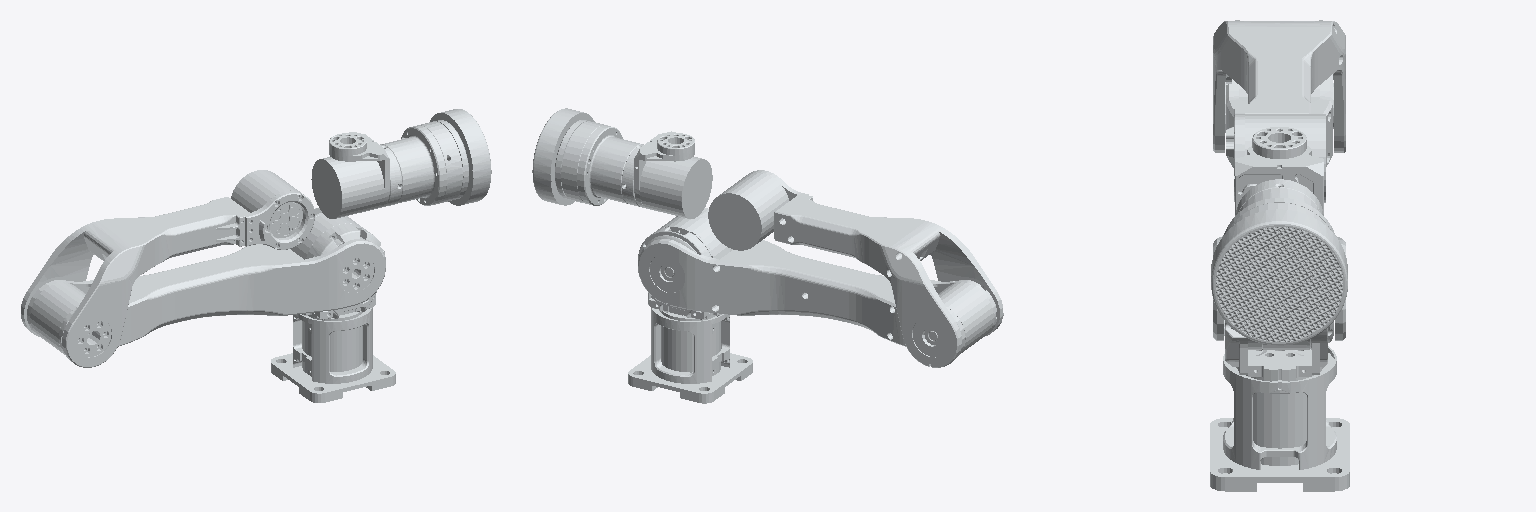
URDF robot description (y1):
<?xml version="1.0" encoding="utf-8"?>
<!-- This URDF was automatically created by SolidWorks to URDF Exporter! Originally created by Stephen Brawner (brawner@gmail.com) 
     Commit Version: 1.6.0-4-g7f85cfe  Build Version: 1.6.7995.38578
     For more information, please see http://wiki.ros.org/sw_urdf_exporter -->
<robot
  name="y1">

  <mujoco>
    <compiler 
      meshdir="../meshes/" 
      balanceinertia="true" 
      discardvisual="false"/>
  </mujoco>

  <link name="world"/>
  <joint name="fixed_base_joint" type="fixed">
    <origin
      xyz="0 0 0"
      rpy="0 0 0" />
    <parent link="world"/>
    <child link="base_link"/>
    <axis
      xyz="0 0 1" />
  </joint>
  <link
    name="base_link">
    <inertial>
      <origin
        xyz="-9.09789029626031E-05 -1.00838762111356E-06 0.0341142783974825"
        rpy="0 0 0" />
      <mass
        value="0.630484112037129" />
      <inertia
        ixx="0.000410475542409659"
        ixy="6.62504499788967E-08"
        ixz="2.20725015722797E-07"
        iyy="0.000409696540187415"
        iyz="-9.52578419911164E-09"
        izz="0.000488804326955829" />
    </inertial>
    <visual>
      <origin
        xyz="0 0 0"
        rpy="0 0 0" />
      <geometry>
        <mesh
          filename="package://y1_description/meshes/base_link.STL" />
      </geometry>
      <material
        name="">
        <color
          rgba="0.898039215686275 0.917647058823529 0.929411764705882 1" />
      </material>
    </visual>
    <collision>
      <origin
        xyz="0 0 0"
        rpy="0 0 0" />
      <geometry>
        <mesh
          filename="package://y1_description/meshes/base_link.STL" />
      </geometry>
    </collision>
  </link>
  <link
    name="link1">
    <inertial>
      <origin
        xyz="0.000681166801672071 -0.00046232914455336 0.045774892481422"
        rpy="0 0 0" />
      <mass
        value="0.465086237348566" />
      <inertia
        ixx="0.000229226849289421"
        ixy="6.51443398285894E-09"
        ixz="4.13823216869872E-08"
        iyy="0.000349392243512686"
        iyz="4.09909327547663E-06"
        izz="0.000228246849171451" />
    </inertial>
    <visual>
      <origin
        xyz="0 0 0"
        rpy="0 0 0" />
      <geometry>
        <mesh
          filename="package://y1_description/meshes/link1.STL" />
      </geometry>
      <material
        name="">
        <color
          rgba="0.898039215686275 0.917647058823529 0.929411764705882 1" />
      </material>
    </visual>
    <collision>
      <origin
        xyz="0 0 0"
        rpy="0 0 0" />
      <geometry>
        <mesh
          filename="package://y1_description/meshes/link1.STL" />
      </geometry>
    </collision>
  </link>
  <joint
    name="joint1"
    type="revolute">
    <origin
      xyz="0 0 0.06675"
      rpy="0 0 0" />
    <parent
      link="base_link" />
    <child
      link="link1" />
    <axis
      xyz="0 0 1" />
    <limit
      lower="-2.79"
      upper="2.79"
      effort="30"
      velocity="5" />
  </joint>
  <link
    name="link2">
    <inertial>
      <origin
        xyz="-0.18883363836199 -0.00103696749691735 -0.000652233498703338"
        rpy="0 0 0" />
      <mass
        value="1.00848298846255" />
      <inertia
        ixx="0.000410794336332579"
        ixy="-8.40217278690792E-05"
        ixz="8.54409137580295E-06"
        iyy="0.0060417092412649"
        iyz="-2.44381601939707E-07"
        izz="0.00611040782664147" />
    </inertial>
    <visual>
      <origin
        xyz="0 0 0"
        rpy="0 0 0" />
      <geometry>
        <mesh
          filename="package://y1_description/meshes/link2.STL" />
      </geometry>
      <material
        name="">
        <color
          rgba="0.898039215686275 0.917647058823529 0.929411764705882 1" />
      </material>
    </visual>
    <collision>
      <origin
        xyz="0 0 0"
        rpy="0 0 0" />
      <geometry>
        <mesh
          filename="package://y1_description/meshes/link2.STL" />
      </geometry>
    </collision>
  </link>
  <joint
    name="joint2"
    type="revolute">
    <origin
      xyz="0.00075 0 0.055"
      rpy="1.5707963267949 0 0" />
    <parent
      link="link1" />
    <child
      link="link2" />
    <axis
      xyz="0 0 1" />
    <limit
      lower="-3.14"
      upper="0"
      effort="100"
      velocity="5" />
  </joint>
  <link
    name="link3">
    <inertial>
      <origin
        xyz="0.133032369395304 0.0530016058529144 0.000290607464783963"
        rpy="0 0 0" />
      <mass
        value="0.839664047451371" />
      <inertia
        ixx="0.000602602152841581"
        ixy="0.000475019651698254"
        ixz="4.78547824051497E-06"
        iyy="0.00179992027196969"
        iyz="2.90178956983618E-06"
        izz="0.00208247690008721" />
    </inertial>
    <visual>
      <origin
        xyz="0 0 0"
        rpy="0 0 0" />
      <geometry>
        <mesh
          filename="package://y1_description/meshes/link3.STL" />
      </geometry>
      <material
        name="">
        <color
          rgba="0.898039215686275 0.917647058823529 0.929411764705882 1" />
      </material>
    </visual>
    <collision>
      <origin
        xyz="0 0 0"
        rpy="0 0 0" />
      <geometry>
        <mesh
          filename="package://y1_description/meshes/link3.STL" />
      </geometry>
    </collision>
  </link>
  <joint
    name="joint3"
    type="revolute">
    <origin
      xyz="-0.28 0 0"
      rpy="0 0 0" />
    <parent
      link="link2" />
    <child
      link="link3" />
    <axis
      xyz="0 0 1" />
    <limit
      lower="0"
      upper="3.14"
      effort="30"
      velocity="5" />
  </joint>
  <link
    name="link4">
    <inertial>
      <origin
        xyz="0.0666890671297201 0.061249505361484 0.00493164049114361"
        rpy="0 0 0" />
      <mass
        value="0.455192806560725" />
      <inertia
        ixx="0.000176582732613137"
        ixy="2.15495918248381E-05"
        ixz="-5.61631637175522E-06"
        iyy="0.000211179169445067"
        iyz="-5.37410070664354E-06"
        izz="0.000207766320179744" />
    </inertial>
    <visual>
      <origin
        xyz="0 0 0"
        rpy="0 0 0" />
      <geometry>
        <mesh
          filename="package://y1_description/meshes/link4.STL" />
      </geometry>
      <material
        name="">
        <color
          rgba="0.898039215686275 0.917647058823529 0.929411764705882 1" />
      </material>
    </visual>
    <collision>
      <origin
        xyz="0 0 0"
        rpy="0 0 0" />
      <geometry>
        <mesh
          filename="package://y1_description/meshes/link4.STL" />
      </geometry>
    </collision>
  </link>
  <joint
    name="joint4"
    type="revolute">
    <origin
      xyz="0.215000000000004 0.0630000000000073 0"
      rpy="0 0 0" />
    <parent
      link="link3" />
    <child
      link="link4" />
    <axis
      xyz="0 0 1" />
    <limit
      lower="-2.145"
      upper="1.413"
      effort="10"
      velocity="20" />
  </joint>
  <link
    name="link5">
    <inertial>
      <origin
        xyz="0.00248530581728849 1.71803824630881E-05 0.0400785531860572"
        rpy="0 0 0" />
      <mass
        value="0.373508569742983" />
      <inertia
        ixx="0.00016414068497646"
        ixy="1.01562762133299E-07"
        ixz="8.98033278270026E-06"
        iyy="0.000150227046495623"
        iyz="7.2756432239469E-07"
        izz="0.000141442797294447" />
    </inertial>
    <visual>
      <origin
        xyz="0 0 0"
        rpy="0 0 0" />
      <geometry>
        <mesh
          filename="package://y1_description/meshes/link5.STL" />
      </geometry>
      <material
        name="">
        <color
          rgba="0.898039215686275 0.917647058823529 0.929411764705882 1" />
      </material>
    </visual>
    <collision>
      <origin
        xyz="0 0 0"
        rpy="0 0 0" />
      <geometry>
        <mesh
          filename="package://y1_description/meshes/link5.STL" />
      </geometry>
    </collision>
  </link>
  <joint
    name="joint5"
    type="revolute">
    <origin
      xyz="0.0799999999999998 0.0519999999999981 0.000249997832942123"
      rpy="1.5707963267949 0 0" />
    <parent
      link="link4" />
    <child
      link="link5" />
    <axis
      xyz="0 0 1" />
    <limit
      lower="-1.482"
      upper="1.482"
      effort="10"
      velocity="20" />
  </joint>
  <link
    name="link6">
    <inertial>
      <origin
        xyz="0.0108106656274518 0.000127504395052592 0.00016010488602905"
        rpy="0 0 0" />
      <mass
        value="0.0724468602058996" />
      <inertia
        ixx="3.15031267100887E-05"
        ixy="-1.31150970829828E-08"
        ixz="-1.64301978495266E-08"
        iyy="1.66634761480036E-05"
        iyz="1.49361456762624E-07"
        izz="1.66897035808186E-05" />
    </inertial>
    <visual>
      <origin
        xyz="0 0 0"
        rpy="0 0 0" />
      <geometry>
        <mesh
          filename="package://y1_description/meshes/link6.STL" />
      </geometry>
      <material
        name="">
        <color
          rgba="0.898039215686275 0.917647058823529 0.929411764705882 1" />
      </material>
    </visual>
    <collision>
      <origin
        xyz="0 0 0"
        rpy="0 0 0" />
      <geometry>
        <mesh
          filename="package://y1_description/meshes/link6.STL" />
      </geometry>
    </collision>
  </link>
  <joint
    name="joint6"
    type="revolute">
    <origin
      xyz="0.0235 0 0.0440000000000001"
      rpy="-3.14159265330655 0 0" />
    <parent
      link="link5" />
    <child
      link="link6" />
    <axis
      xyz="1 0 0" />
    <limit
      lower="-2.529"
      upper="2.529"
      effort="10"
      velocity="20" />
  </joint>
</robot>

--- Facts derived from the render (not from the file) ---
The picture shows the robot from 3 angles, left to right: view 1: azimuth 30°, elevation 25°; view 2: azimuth 150°, elevation 25°; view 3: azimuth 270°, elevation 25°; orthographic projection.
Robot: y1 — 8 links, 7 joints (6 revolute, 1 fixed); root link world; default pose: every joint at zero.
Visible links, largest first — view 1: link3, link2, link6, base_link, link5, link1; view 2: link3, link2, link6, base_link, link5, link1; view 3: link6, link3, base_link, link5, link1, link2.
Link boxes in pixels (<box>): link3: <box>21,170,314,367</box>; link2: <box>27,239,385,354</box>; link6: <box>380,109,491,206</box>; base_link: <box>271,308,395,402</box>; link5: <box>311,132,389,218</box>; link1: <box>291,208,385,319</box>; link3: <box>708,170,1003,367</box>; link2: <box>638,239,996,354</box>; link6: <box>532,108,643,206</box>; base_link: <box>628,308,752,403</box>; link5: <box>634,131,712,218</box>; link1: <box>638,208,732,319</box>; link6: <box>1211,179,1347,345</box>; link3: <box>1213,20,1345,202</box>; base_link: <box>1210,346,1349,491</box>; link5: <box>1235,127,1323,214</box>; link1: <box>1224,320,1333,380</box>; link2: <box>1213,74,1345,340</box>.
Bounding box of the posed robot: 0.4533 × 0.09 × 0.2368 m (x, y, z).
6 mesh visuals loaded from 7 distinct referenced files (6 binary STL); not drawn: 1 (reference not matched to a file when rendering).
